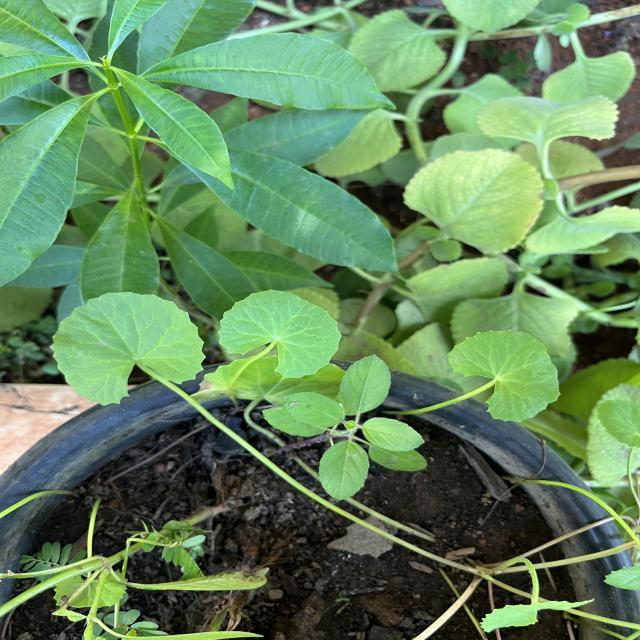Centella asiatica: (48, 288, 208, 408), (214, 288, 346, 382), (444, 325, 564, 425)
